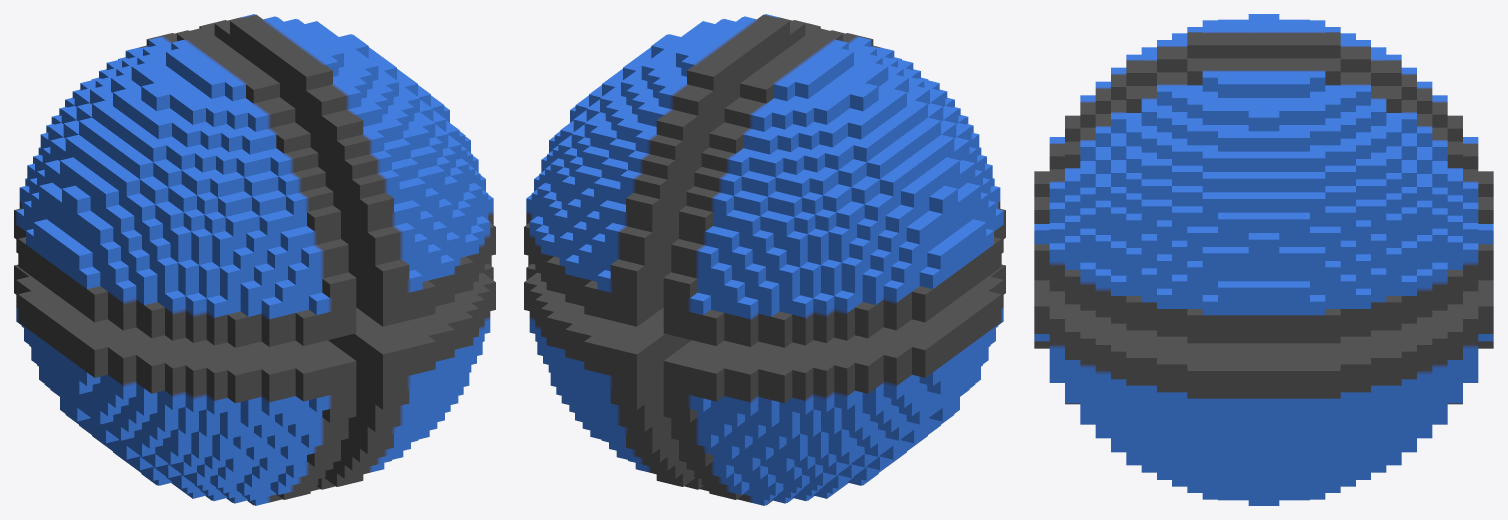
The model's file is Character_6.fbx.
3 renders of one model, left to right at view 1: azimuth 30°, elevation 25°; view 2: azimuth 150°, elevation 25°; view 3: azimuth 270°, elevation 25°, orthographic.
Parts seen in each view (by area): view 1: Character_6; view 2: Character_6; view 3: Character_6.
Part boxes in pixels (x1=…): Character_6: x1=14, y1=14, x2=495, y2=505; Character_6: x1=524, y1=14, x2=1005, y2=505; Character_6: x1=1034, y1=14, x2=1493, y2=505.
Bounding box in the file's own units: 30 × 30 × 30.
Materials: 1 (1 with a texture image).
